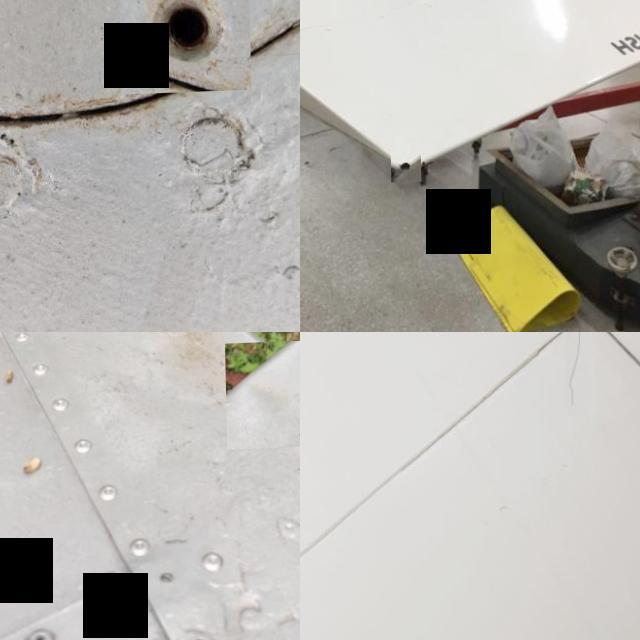Crack: (565, 332, 596, 419), (388, 137, 419, 185)
Dent: (223, 343, 300, 452)
Missing_Fastener: (118, 0, 250, 97)
